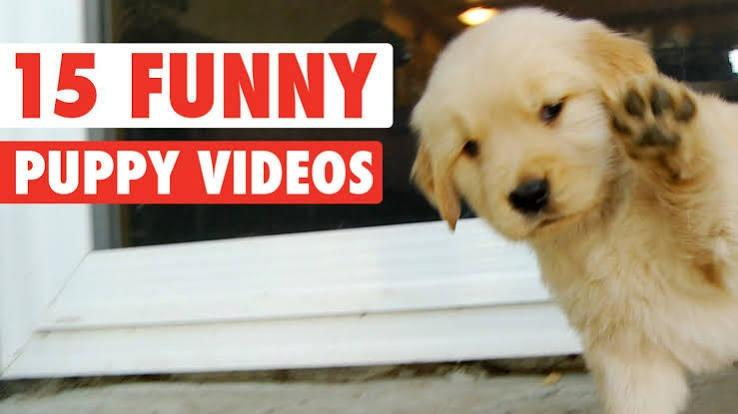puppy-dog: (409, 7, 738, 414)
